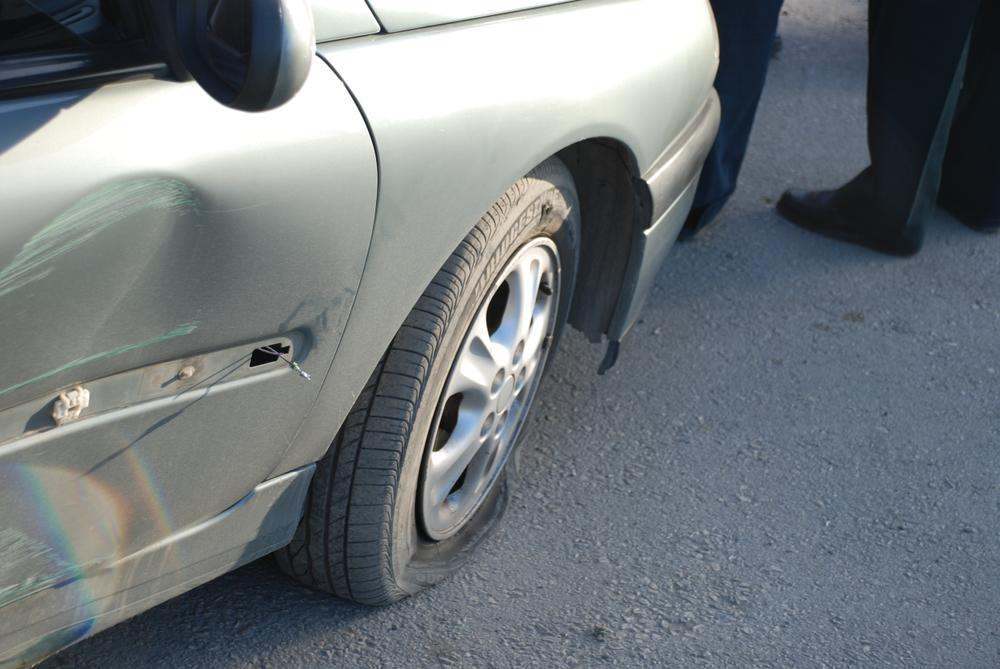dent: (1, 173, 216, 412)
scratch: (0, 523, 120, 604)
tire flat: (277, 158, 584, 604)
